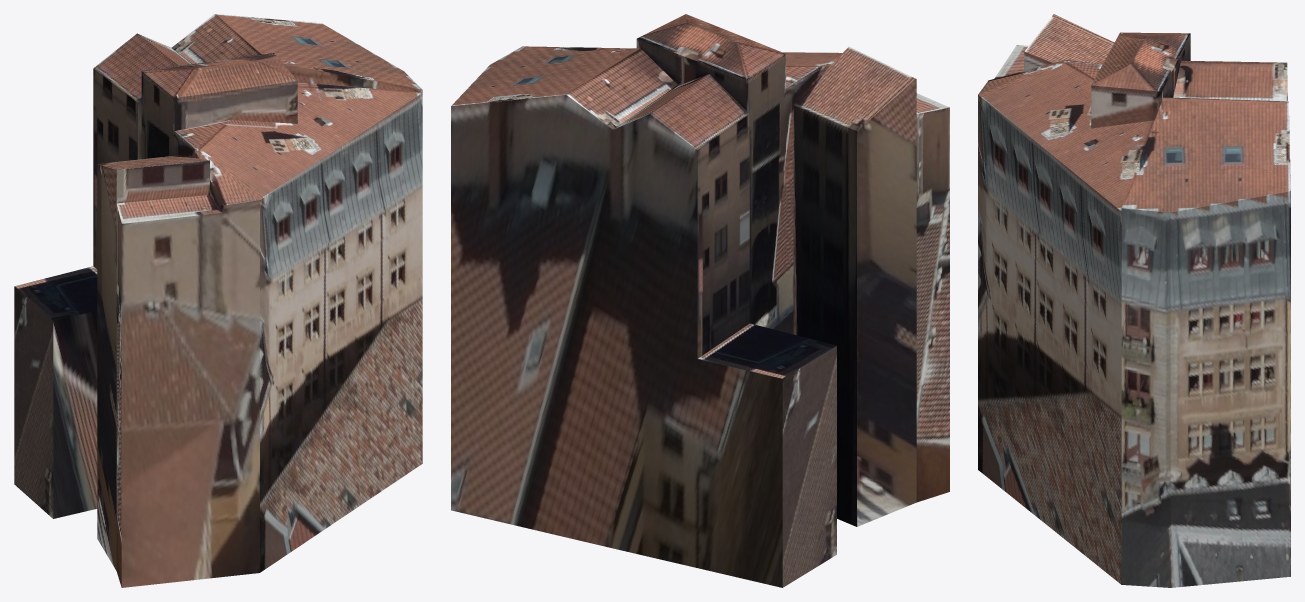
The picture shows the model from 3 angles, left to right: view 1: azimuth 30°, elevation 25°; view 2: azimuth 150°, elevation 25°; view 3: azimuth 270°, elevation 25°; orthographic projection. The views are drawn at different scales.
Parts seen in each view (by area): view 1: Z_UP; view 2: Z_UP; view 3: Z_UP.
Boxes of the visible parts, x1=… form: Z_UP: x1=14, y1=14, x2=422, y2=587; Z_UP: x1=451, y1=14, x2=949, y2=587; Z_UP: x1=978, y1=14, x2=1290, y2=587.
Size of the model in its own units: 24.69 by 28.84 by 18.49.
2 materials, 1 textured.
